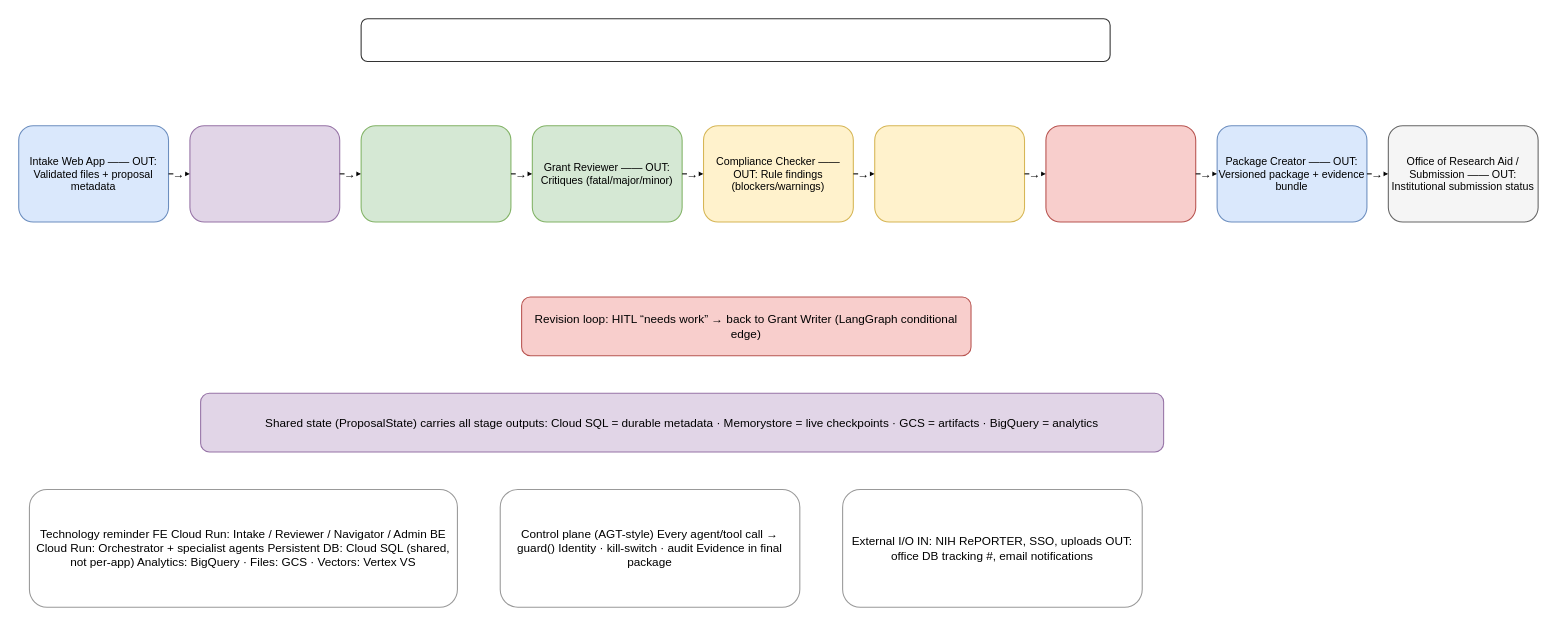
This 1557x626 diagram has some shape labels left out. The centre of each missing label's shape, as x and y in pixels:
"Budget Scrutinizer —— OUT: Budget norm validation issues" belongs at (x=949, y=173).
"Document Intelligence —— OUT: Parsed sections, entities, text" belongs at (x=264, y=173).
"Grant Writer (+ Knowledge) —— OUT: Specific Aims / section drafts" belongs at (x=435, y=173).
"HITL PI / Office of Research Aid —— OUT: Approve or revise decision" belongs at (x=1120, y=173).
"Integration chain — which output becomes input to the next stage" belongs at (x=735, y=40).
